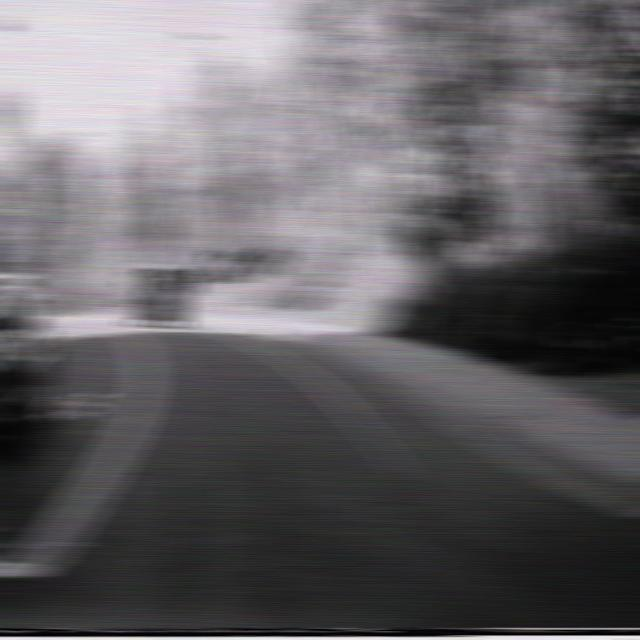pedestrianCrossing: (152, 234, 183, 269)
